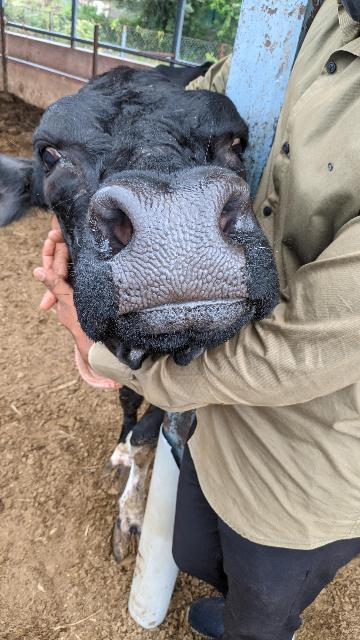Muzzle: (128, 194, 222, 286)
